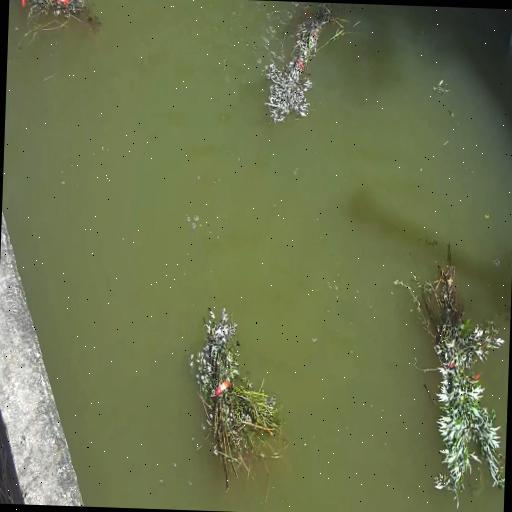twig: (388, 240, 512, 510), (186, 303, 290, 500), (261, 0, 357, 124), (12, 0, 102, 43)
